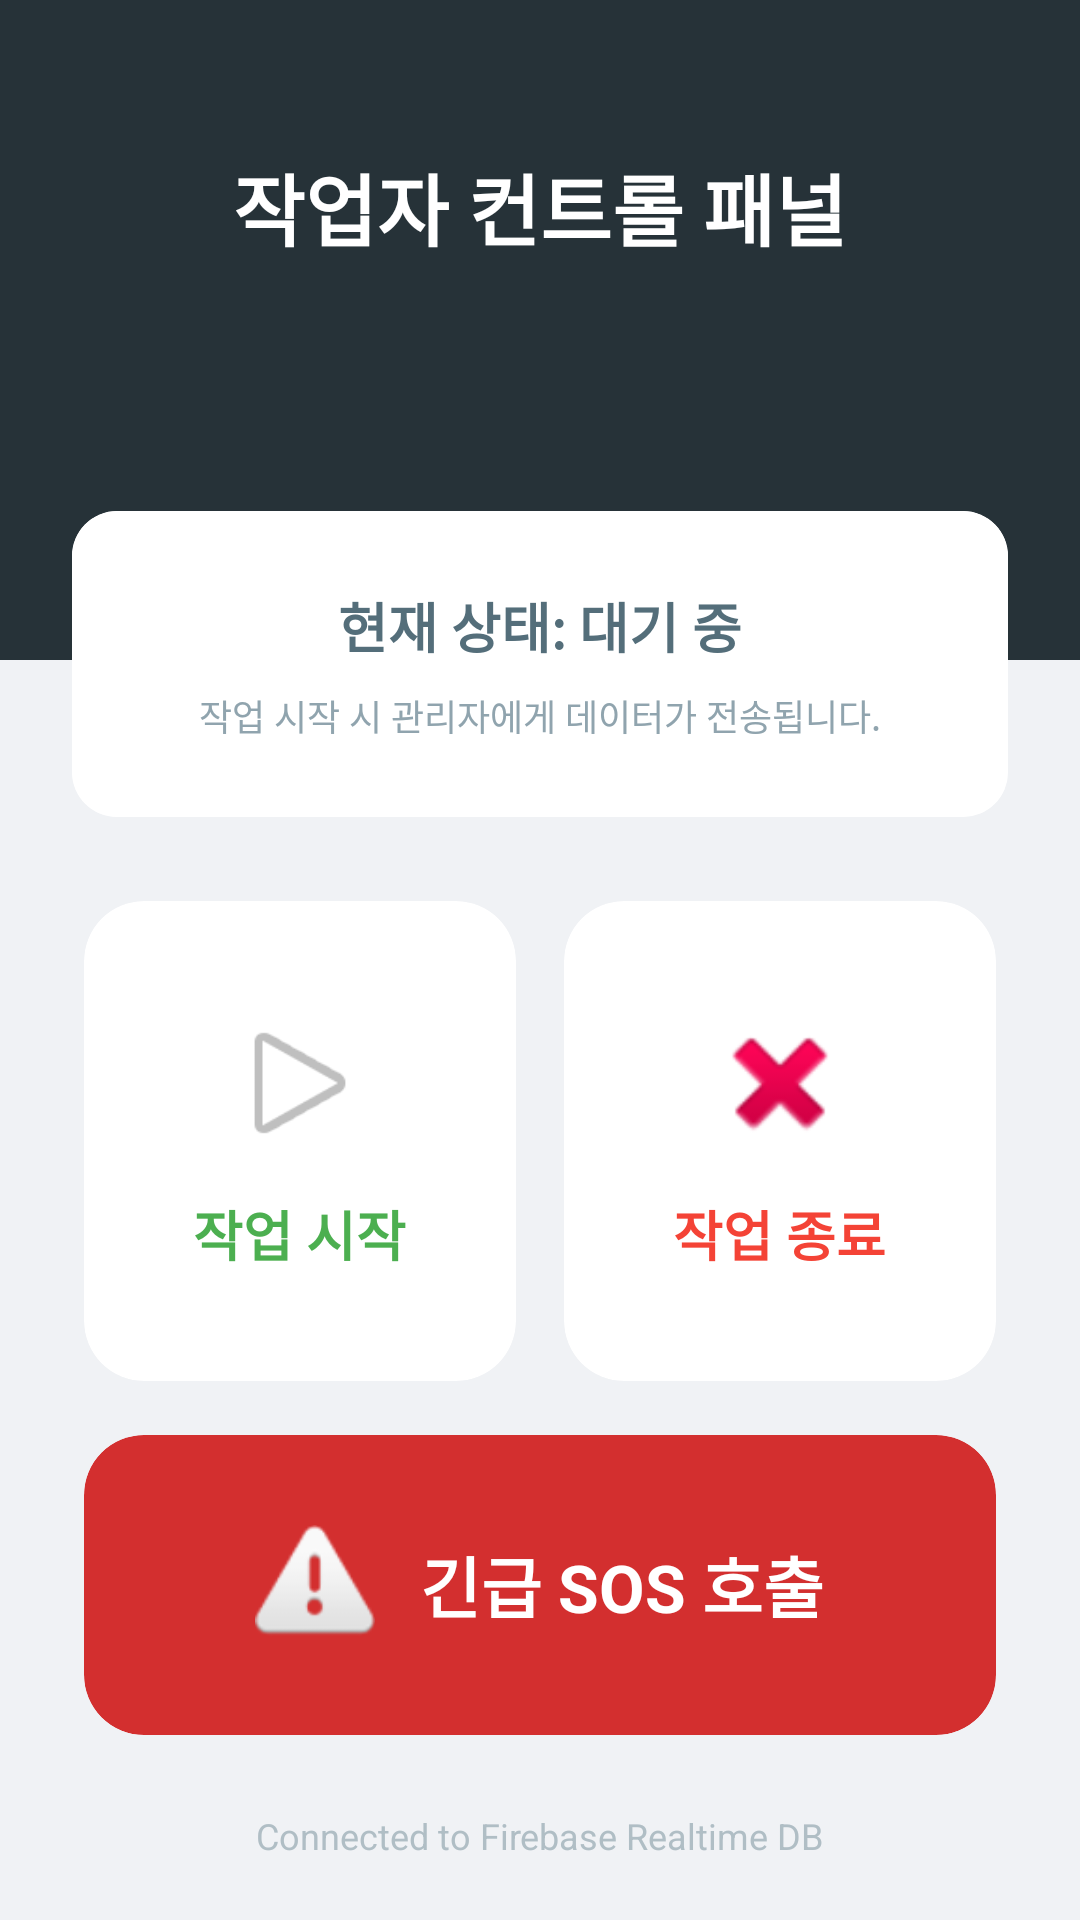

Locate icon controls on the screen. Image size 1080w x 1920h, boxes as (x1, y1, x2, y2).
alert: (255, 1525, 375, 1634)
delete: (732, 1038, 828, 1130)
play: (254, 1033, 345, 1133)
